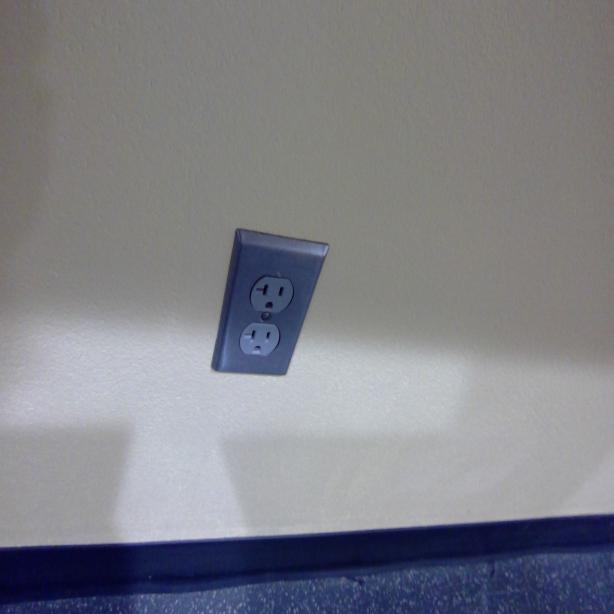typeb: (242, 319, 274, 358), (255, 276, 286, 312)
